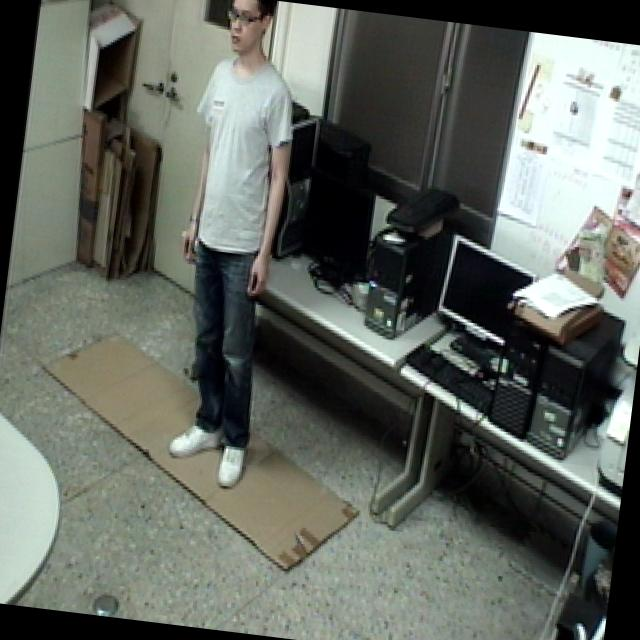stand: (134, 0, 321, 505)
